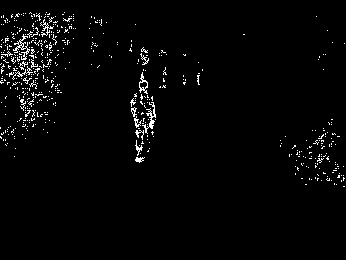person: (131, 79, 156, 164)
